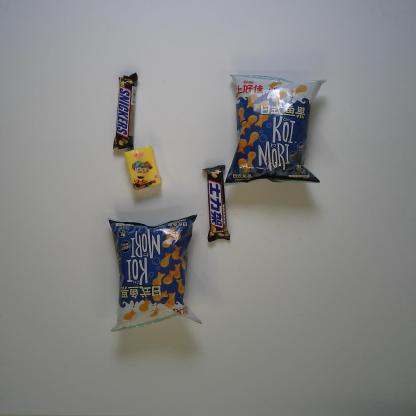Chocolate: (202, 164, 232, 244), (112, 72, 139, 150)
Puffed Food: (223, 74, 327, 188), (107, 212, 202, 332)
Tissue: (124, 145, 162, 192)
